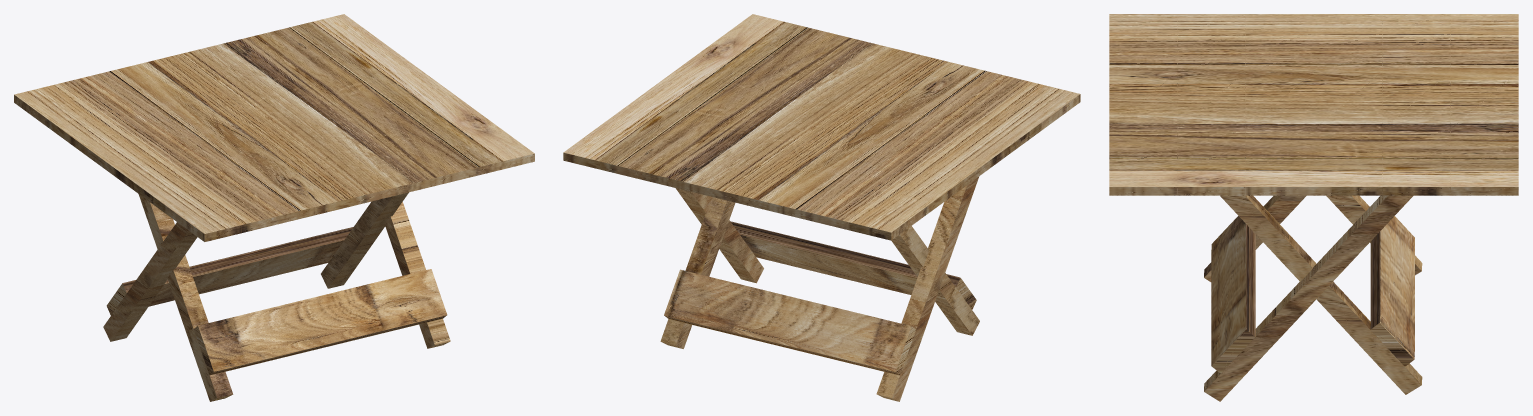
Rendered from Mesa.fbx.
3 views of the same model, side by side, from view 1: azimuth 30°, elevation 25°; view 2: azimuth 150°, elevation 25°; view 3: azimuth 270°, elevation 25° (orthographic). The views are drawn at different scales.
Visible parts, largest first — view 1: Cubo; view 2: Cubo; view 3: Cubo.
Boxes of the visible parts, box(x1,y1,x2,y2) form: Cubo: box(14, 14, 534, 401); Cubo: box(563, 14, 1080, 401); Cubo: box(1109, 14, 1518, 401).
Size of the model in its own units: 326 by 207 by 326.
